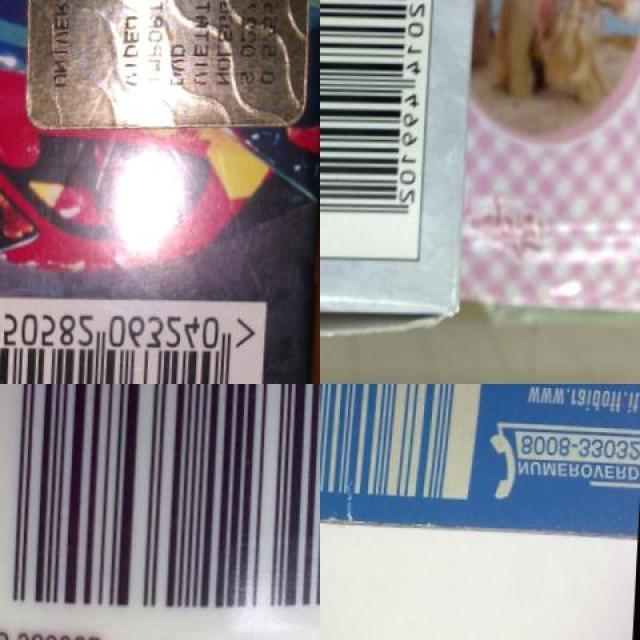Barcode: (0, 384, 320, 635), (320, 0, 439, 260), (0, 293, 269, 383), (320, 384, 496, 496)
